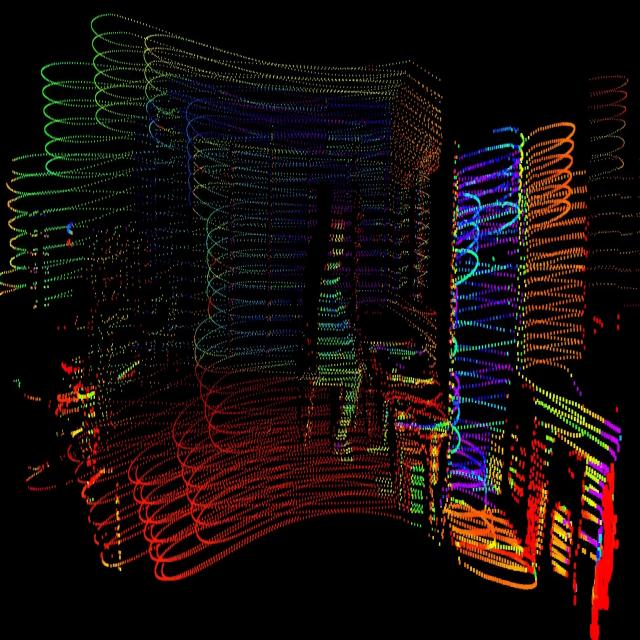human: (310, 204, 370, 486)
